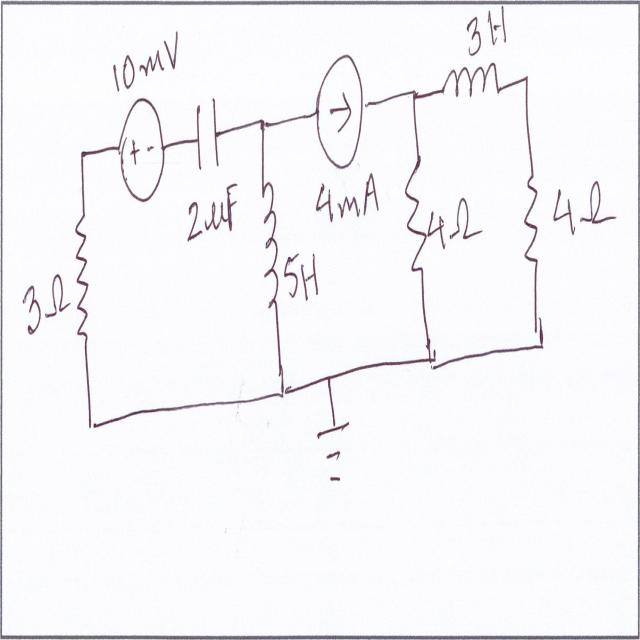capacitor: (190, 96, 224, 182)
current_source: (314, 48, 366, 174)
ground: (313, 411, 358, 505)
inductor: (443, 53, 500, 116), (259, 180, 281, 330)
resistor: (71, 202, 99, 356), (402, 150, 430, 278), (525, 160, 547, 293)
voltage_source: (114, 90, 168, 210)
